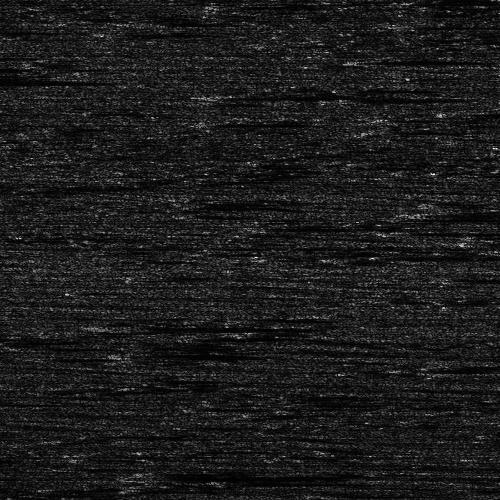object: (71, 321, 186, 330), (264, 221, 317, 230), (123, 469, 154, 478), (211, 92, 252, 97), (416, 210, 457, 215)
shadow: (139, 469, 321, 478), (291, 221, 435, 230), (129, 321, 272, 330), (231, 92, 447, 97), (0, 72, 81, 83), (134, 353, 277, 356), (437, 210, 500, 215)
